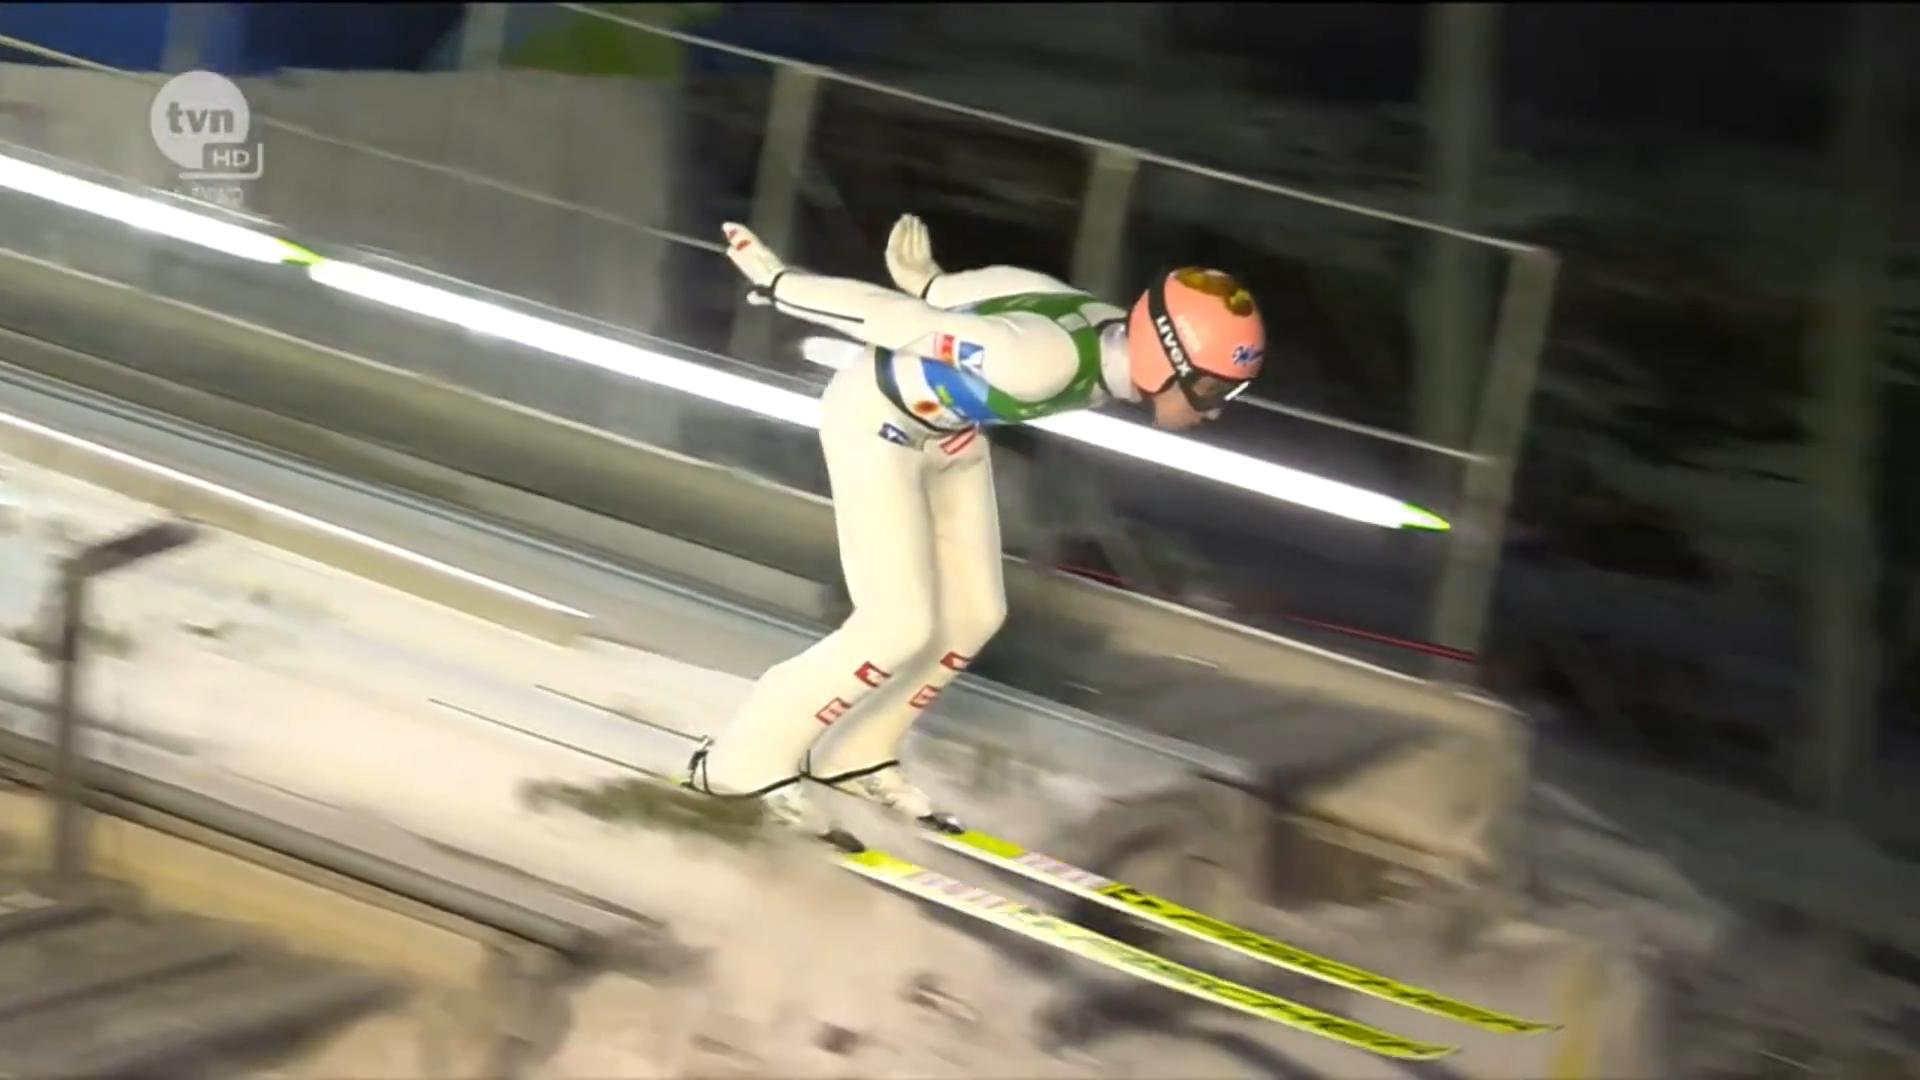prog: (1125, 732, 1420, 835)
